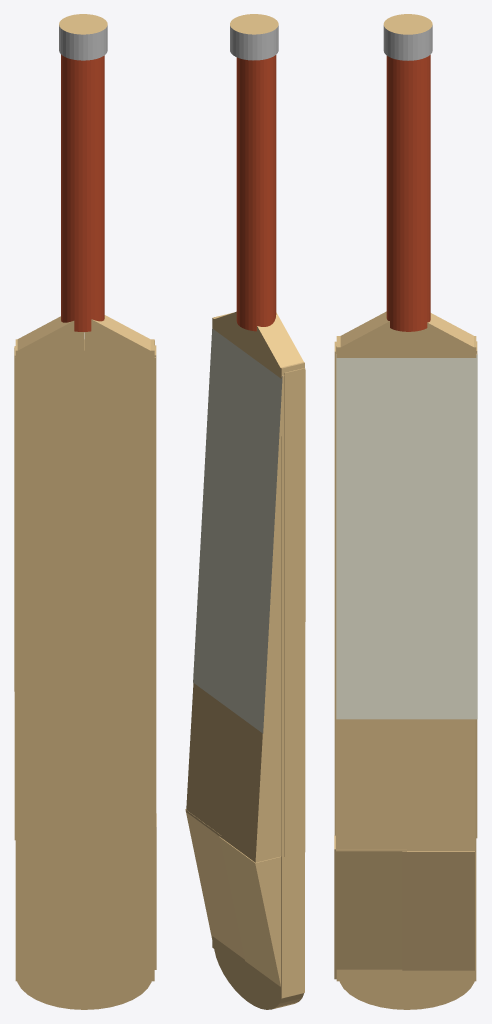
The model's file is CricketBat.obj.
The picture shows the model from 3 angles, left to right: view 1: azimuth 90°, elevation 25°; view 2: azimuth 210°, elevation 25°; view 3: azimuth 270°, elevation 25°; orthographic projection.
Visible parts, largest first — view 1: bottom_1_1, front_51, Cylinder34, Cylinder96, Cylinder35, back_10_10, back_15_15, right_67, left_60, slope_8_8_, Cylinder_4, slope_13_1 (+2 smaller); view 2: front_57, Cylinder34, front_69, front_35_3, back_5_5_5, slope_27_2, slope_32_3, slope_37_3, slope_42_4, top_2_2_2, back_39_39, Cylinder_1 (+8 smaller); view 3: front_57, Cylinder34, slope_27_2, slope_32_3, slope_37_3, slope_42_4, top_2_2_2, Cylinder_1, Cylinder35, front_11_1, front_16_1, right_61 (+4 smaller).
Boxes of the visible parts, x1,y1,x2,y2 form: bottom_1_1: [15, 350, 154, 981]; front_51: [15, 358, 155, 610]; Cylinder34: [61, 54, 104, 331]; Cylinder96: [16, 941, 152, 1009]; Cylinder35: [59, 25, 107, 60]; back_10_10: [84, 319, 149, 350]; back_15_15: [18, 321, 83, 350]; right_67: [14, 355, 15, 840]; left_60: [154, 355, 156, 839]; slope_8_8_: [92, 315, 150, 350]; Cylinder_4: [59, 14, 107, 34]; slope_13_1: [17, 316, 72, 350]; front_57: [193, 328, 282, 733]; Cylinder34: [236, 55, 276, 331]; front_69: [285, 368, 305, 857]; front_35_3: [255, 443, 281, 862]; back_5_5_5: [281, 363, 304, 998]; slope_27_2: [186, 683, 228, 836]; slope_32_3: [221, 708, 262, 862]; slope_37_3: [219, 837, 280, 986]; slope_42_4: [185, 809, 244, 959]; top_2_2_2: [212, 318, 281, 997]; back_39_39: [255, 857, 280, 985]; Cylinder_1: [214, 949, 281, 1009]; front_57: [336, 354, 477, 719]; Cylinder34: [386, 55, 430, 331]; slope_27_2: [336, 346, 406, 851]; slope_32_3: [405, 719, 475, 851]; slope_37_3: [402, 852, 474, 970]; slope_42_4: [334, 849, 406, 979]; top_2_2_2: [336, 347, 476, 981]; Cylinder_1: [339, 981, 474, 1009]; Cylinder35: [383, 25, 432, 60]; front_11_1: [341, 321, 407, 347]; front_16_1: [407, 322, 473, 347]; right_61: [334, 351, 335, 835].
Size of the model in its own units: 40.17 by 702 by 92.7.
